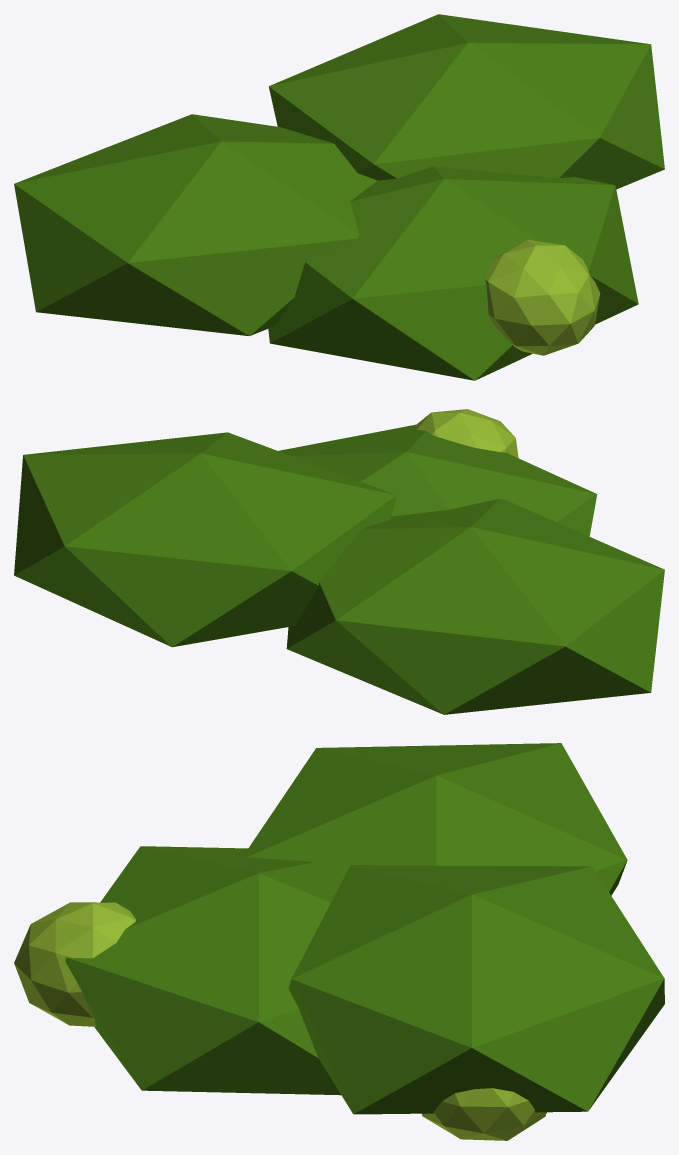
The model's file is forest_moss.glb.
3 renders of one model, top to bottom at view 1: azimuth 30°, elevation 25°; view 2: azimuth 150°, elevation 25°; view 3: azimuth 270°, elevation 25°, orthographic. The views are drawn at different scales.
Parts seen in each view (by area): view 1: Soft moss patch, Soft moss patch.001, Soft moss patch.002, Moss tiny sprouting mound.002; view 2: Soft moss patch, Soft moss patch.001, Soft moss patch.002, Moss tiny sprouting mound.002; view 3: Soft moss patch.001, Soft moss patch.002, Soft moss patch, Moss tiny sprouting mound.002, Moss tiny sprouting mound.001.
Boxes of the visible parts, x1,y1,x2,y2 form: Soft moss patch: [14, 114, 377, 336]; Soft moss patch.001: [268, 14, 664, 189]; Soft moss patch.002: [268, 166, 638, 380]; Moss tiny sprouting mound.002: [485, 239, 600, 355]; Soft moss patch: [286, 498, 664, 714]; Soft moss patch.001: [14, 432, 396, 647]; Soft moss patch.002: [278, 424, 597, 536]; Moss tiny sprouting mound.002: [414, 409, 518, 457]; Soft moss patch.001: [289, 865, 664, 1114]; Soft moss patch.002: [65, 846, 341, 1095]; Soft moss patch: [243, 743, 627, 895]; Moss tiny sprouting mound.002: [14, 902, 135, 1026]; Moss tiny sprouting mound.001: [422, 1088, 546, 1140].
Bounding box in the file's own units: 0.697 × 0.2227 × 0.5496.
